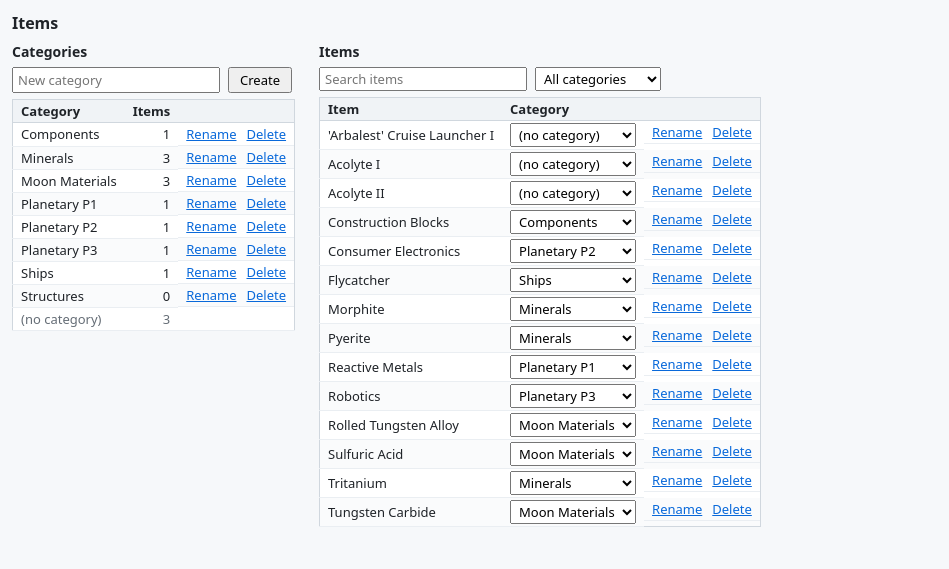
Scenario: ItemsSection › rejects a rename to a name in use, naming the item, and keeps the edit open
This screenshot has width=949, height=569.
Click the button with aria-label "Rename Robotics" at (677, 392), box [652,384,702,402]
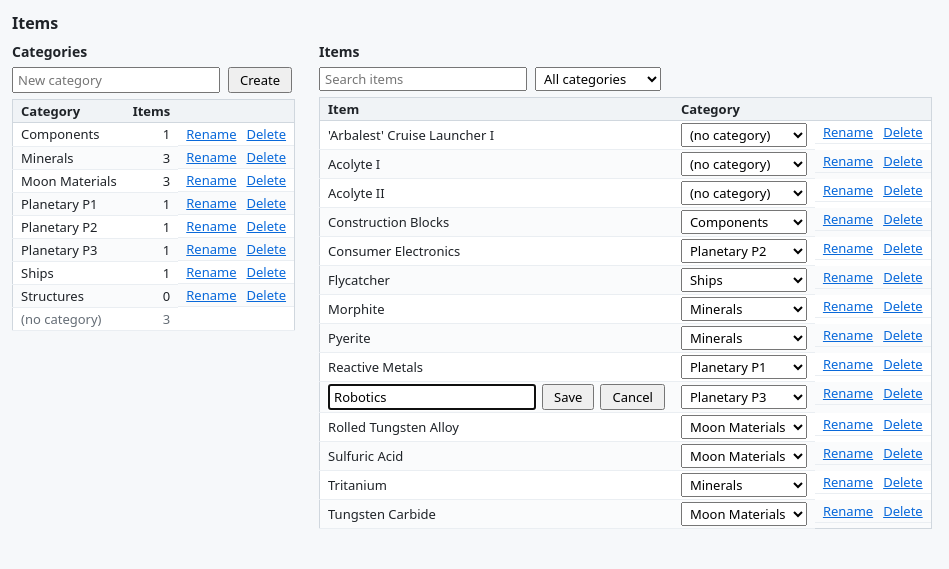
Replace the text in the field named "New name for Robotics" with "tritanium" at (432, 397), box [328,384,536,410]
Then press Enter
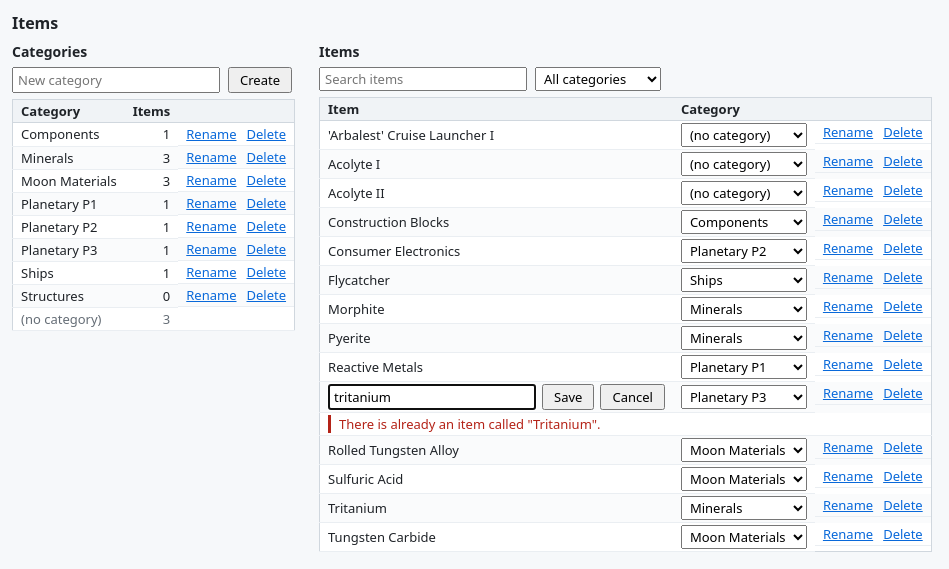
Expected: the message reads "There is already an item called \"Tritanium\".", [339,415,600,433]
